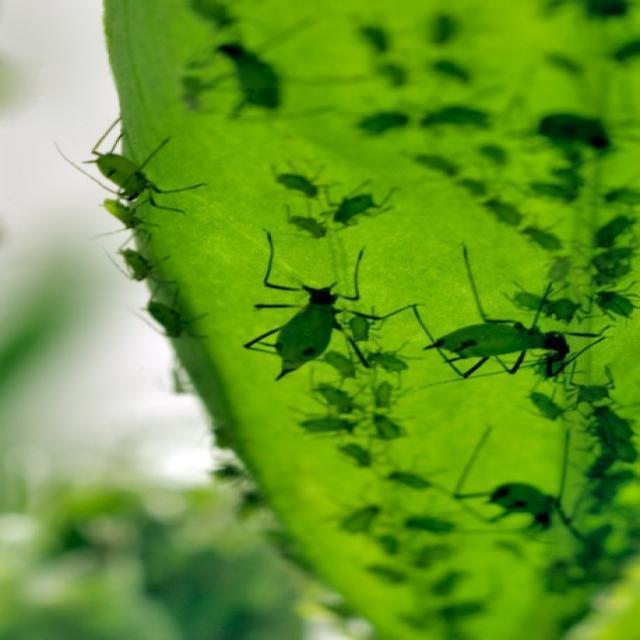Aphids: (366, 265, 609, 397), (230, 240, 390, 382), (64, 147, 194, 223)
